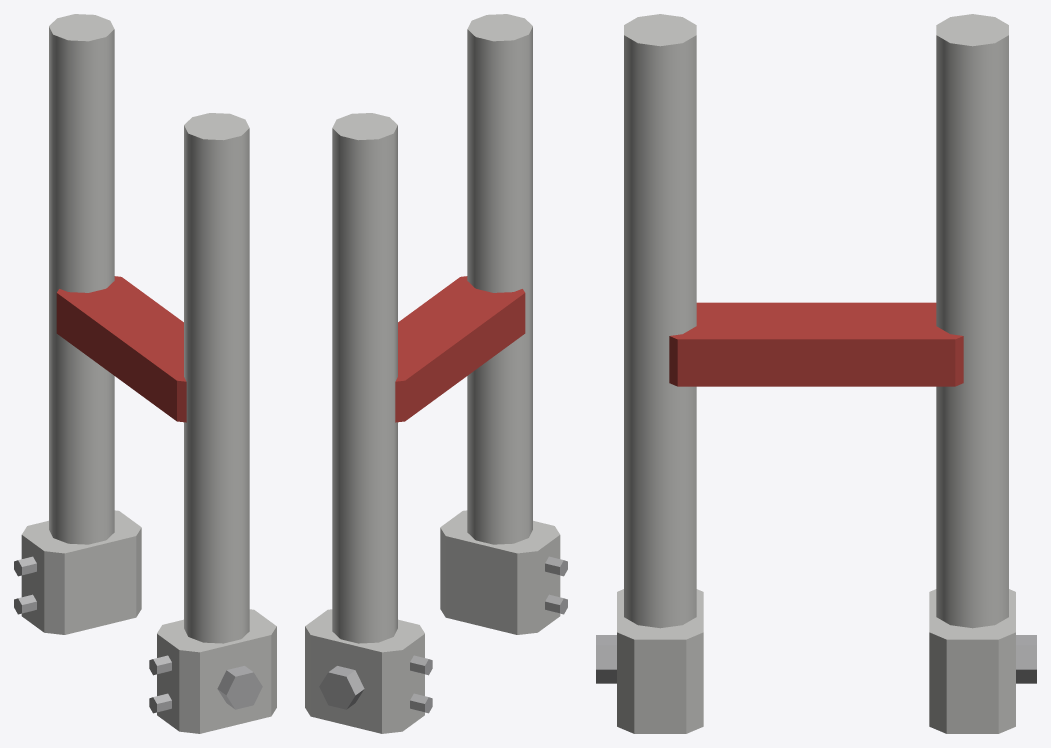
The model's file is roader_usd_black_lower_lod1.glb.
3 views of the same model, side by side, from view 1: azimuth 30°, elevation 25°; view 2: azimuth 150°, elevation 25°; view 3: azimuth 270°, elevation 25° (orthographic). The views are drawn at different scales.
Visible parts, largest first — view 1: roader_usd_black_lower_lod1; view 2: roader_usd_black_lower_lod1; view 3: roader_usd_black_lower_lod1.
Boxes of the visible parts, x1,y1,x2,y2 form: roader_usd_black_lower_lod1: (14, 14, 276, 733); roader_usd_black_lower_lod1: (305, 14, 567, 733); roader_usd_black_lower_lod1: (596, 14, 1036, 733).
Bounding box in the file's own units: 0.0865 × 0.43 × 0.254.
